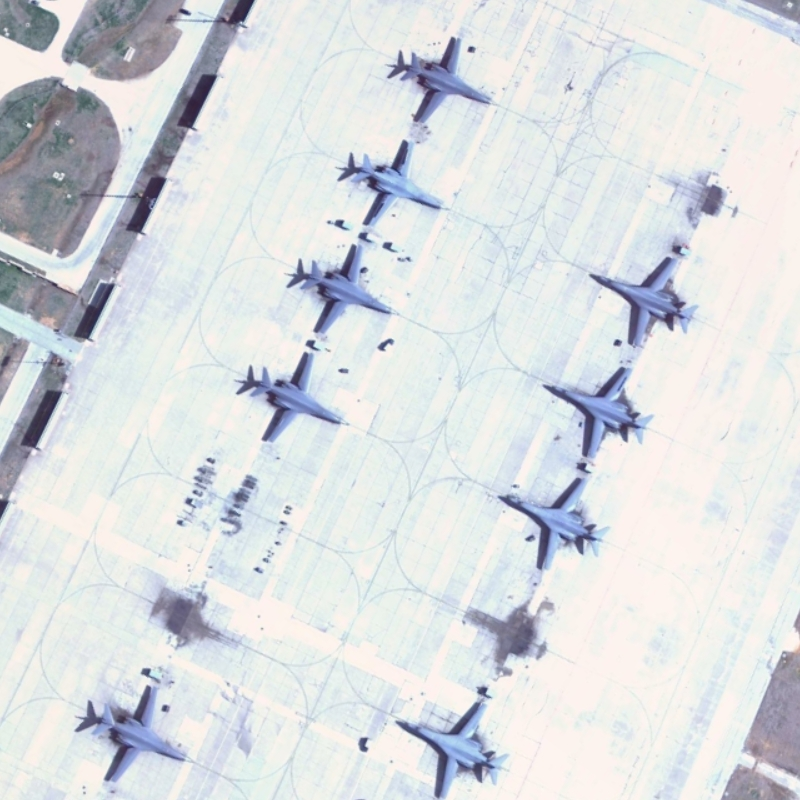A10: (386, 690, 515, 800), (536, 357, 663, 466), (490, 467, 610, 574), (581, 245, 701, 352), (88, 677, 202, 789), (231, 338, 347, 446), (383, 27, 499, 128), (282, 234, 398, 335), (335, 132, 451, 233)
